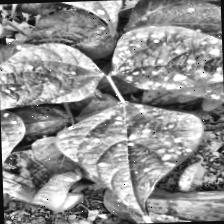Bean Rust: (57, 103, 204, 224), (0, 41, 105, 109), (114, 25, 223, 90), (29, 3, 114, 60), (7, 0, 133, 36), (123, 0, 221, 40), (0, 107, 28, 206), (162, 80, 224, 114)
